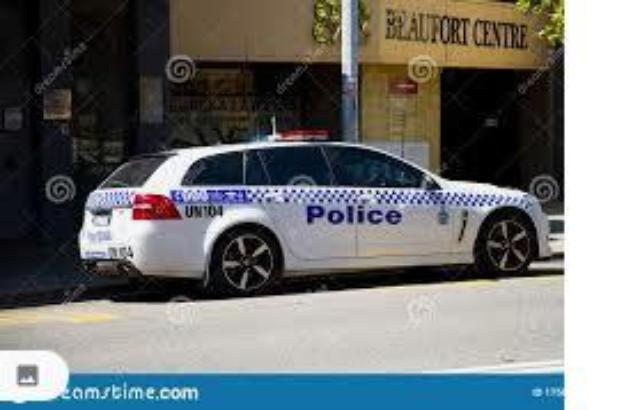police: (78, 128, 551, 298)
